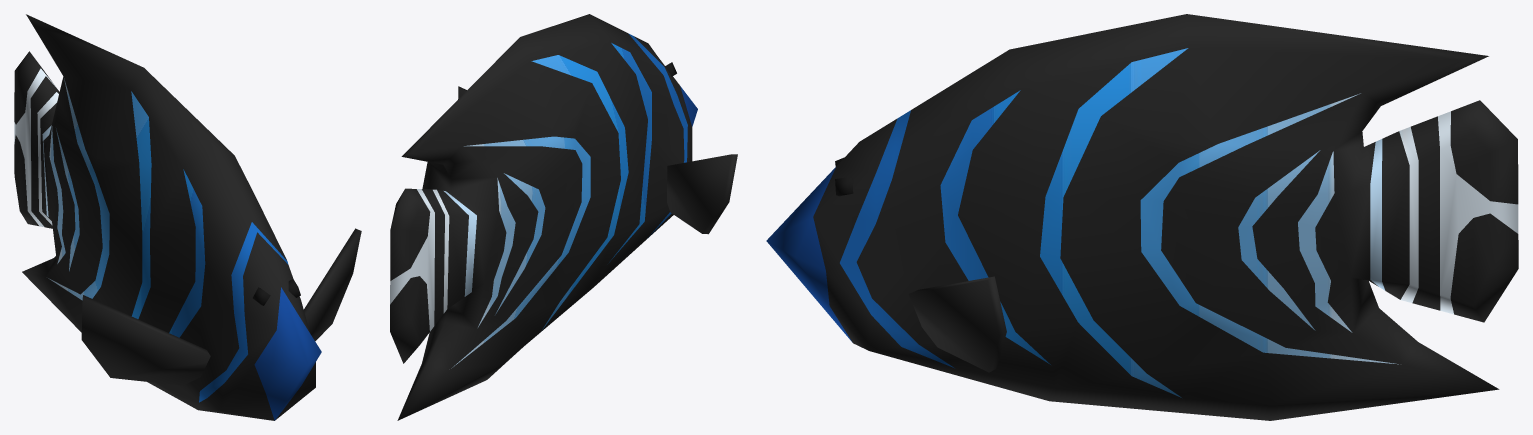
The model's file is BlueBlackFish.fbx.
3 renders of one model, left to right at view 1: azimuth 30°, elevation 25°; view 2: azimuth 150°, elevation 25°; view 3: azimuth 270°, elevation 25°, orthographic. The views are drawn at different scales.
Parts seen in each view (by area): view 1: Fish_026; view 2: Fish_026; view 3: Fish_026.
Part boxes in pixels (x1,y1,x2,y2): Fish_026: (14,14,361,420); Fish_026: (390,14,737,420); Fish_026: (766,14,1518,420).
Size of the model in its own units: 25.51 by 27.81 by 46.6.
